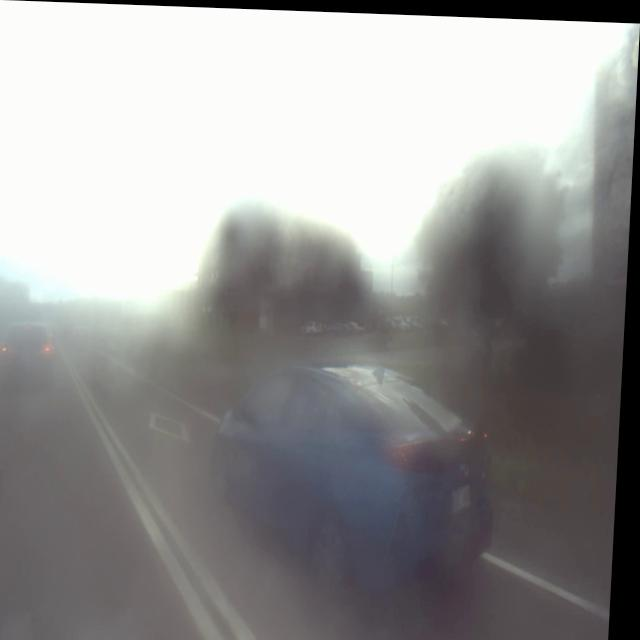car: (208, 313, 504, 585)
